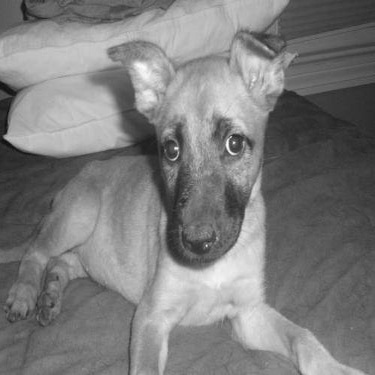dog: (7, 29, 363, 371)
